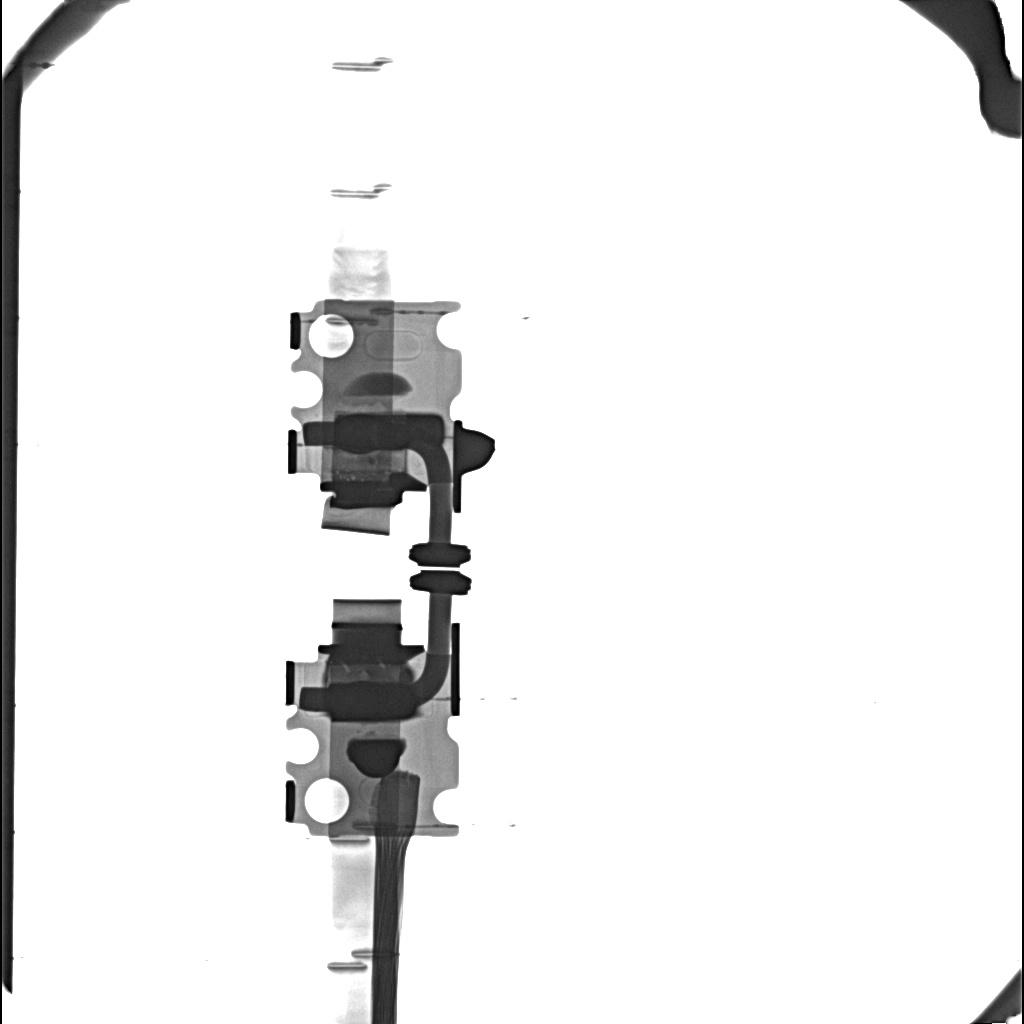SX: (335, 415, 444, 450), (326, 682, 416, 721)
